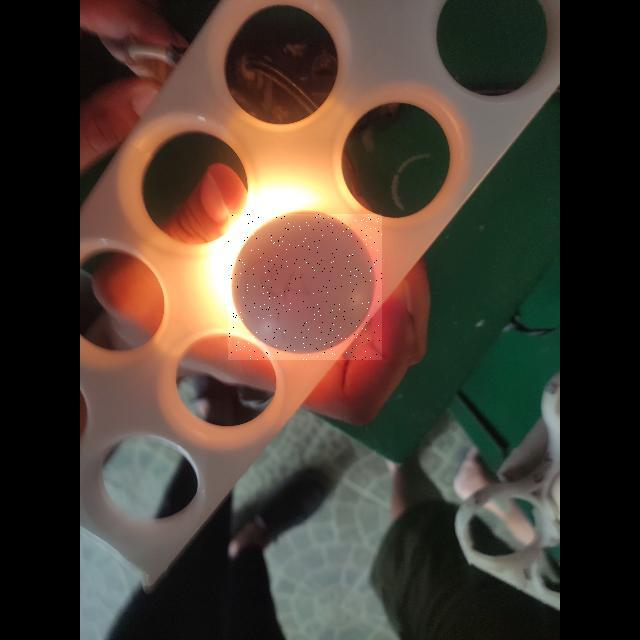Fertile: (228, 214, 382, 360)
